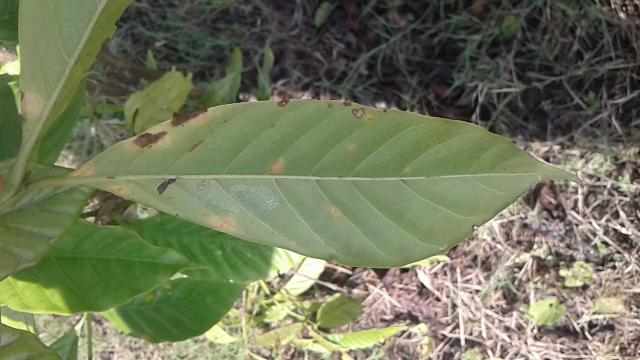rust_level_1: (68, 100, 583, 264)
